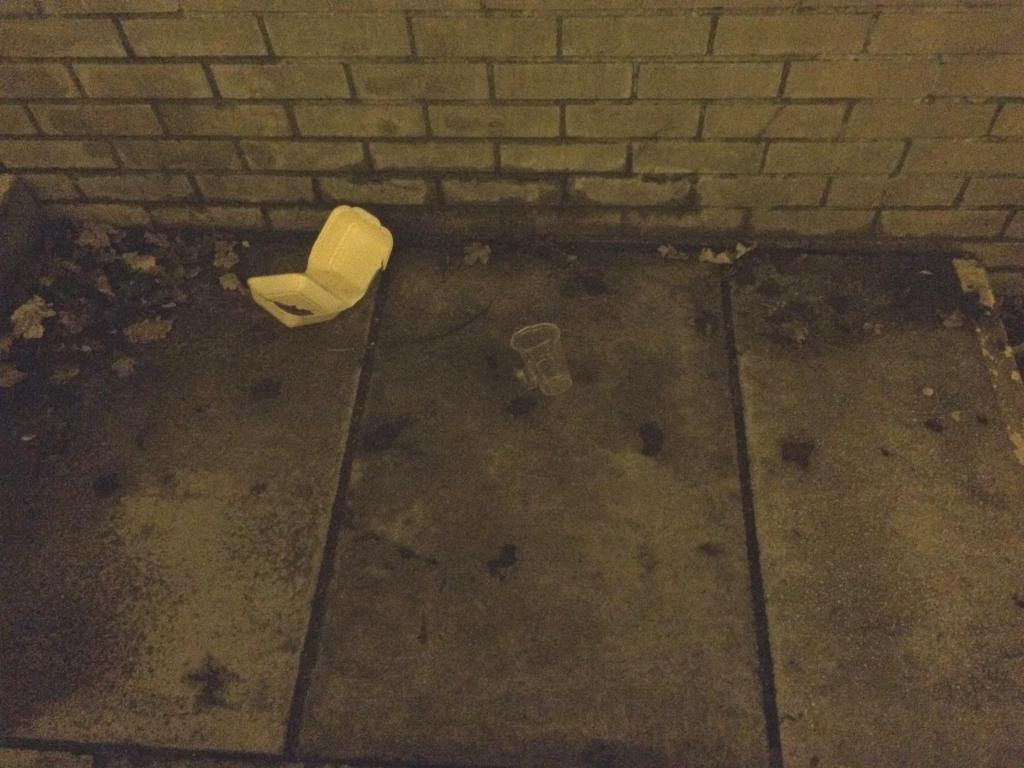garbage: (229, 191, 417, 352)
